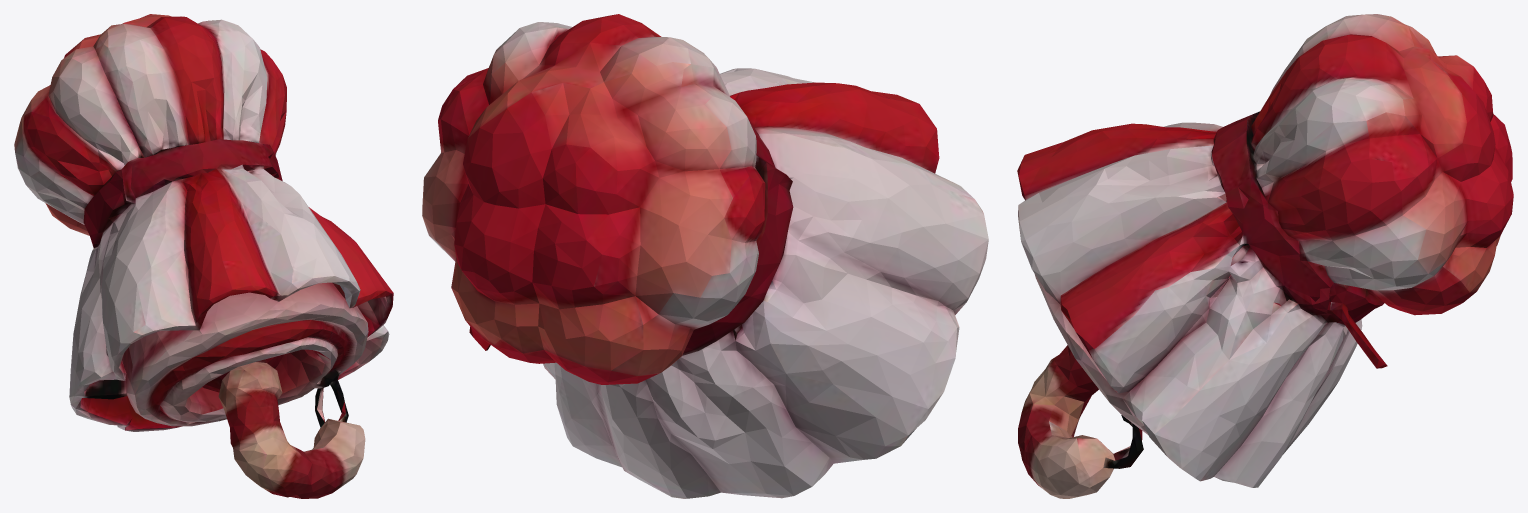
The model's file is glider_umbrella.glb.
The picture shows the model from 3 angles, left to right: view 1: azimuth 30°, elevation 25°; view 2: azimuth 150°, elevation 25°; view 3: azimuth 270°, elevation 25°; orthographic projection. The views are drawn at different scales.
Parts seen in each view (by area): view 1: tmpp11rbudc.ply; view 2: tmpp11rbudc.ply; view 3: tmpp11rbudc.ply.
Boxes of the visible parts, bbox=[...] form: tmpp11rbudc.ply: bbox=[14, 14, 393, 498]; tmpp11rbudc.ply: bbox=[422, 14, 988, 498]; tmpp11rbudc.ply: bbox=[1017, 14, 1513, 498].
Bounding box in the file's own units: 1.62 × 1.95 × 1.99.
1 material, 1 textured.
